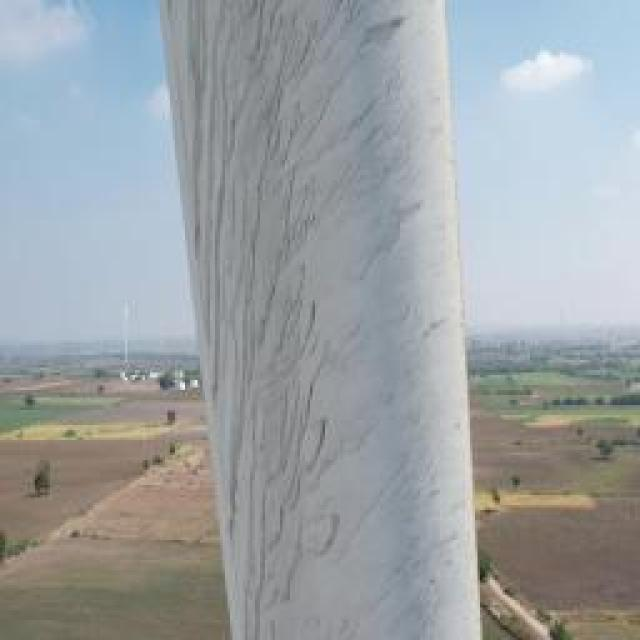Dirt: (163, 0, 469, 640)
